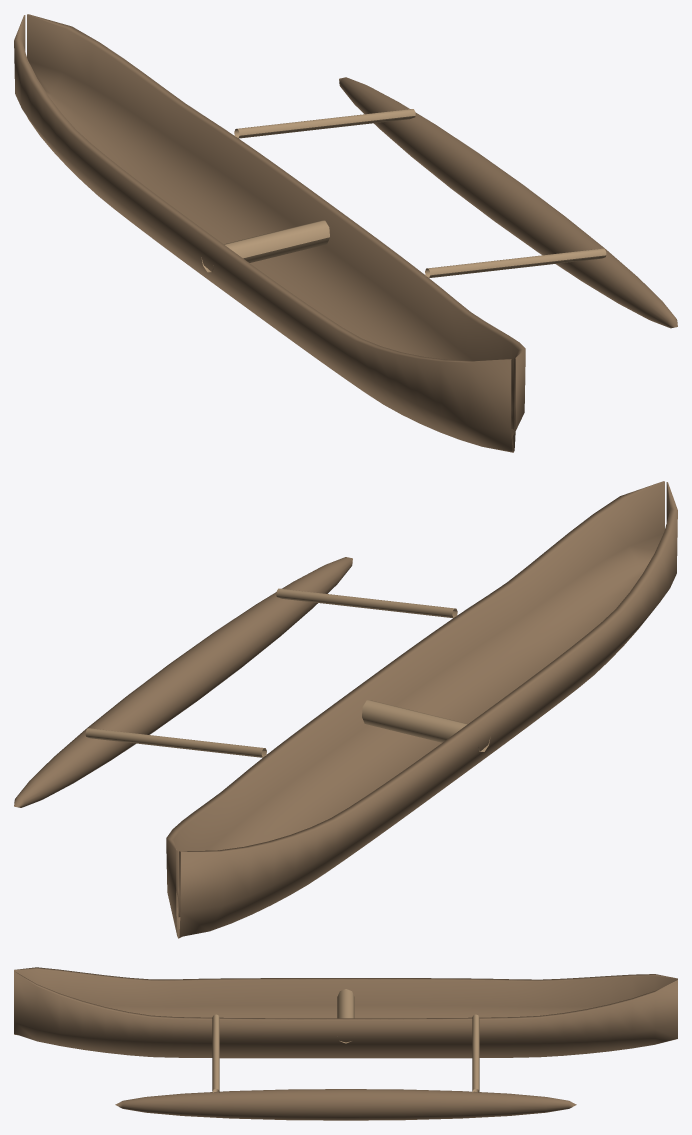
File: Canoe.glb
The picture shows the model from 3 angles, top to bottom: view 1: azimuth 30°, elevation 25°; view 2: azimuth 150°, elevation 25°; view 3: azimuth 270°, elevation 25°; orthographic projection. The views are drawn at different scales.
Visible parts, largest first — view 1: Canoe_hull, Canoe_float, Canoe_booms, Canoe_seat; view 2: Canoe_hull, Canoe_float, Canoe_booms, Canoe_seat; view 3: Canoe_hull, Canoe_float, Canoe_booms, Canoe_seat.
Boxes of the visible parts, x1,y1,x2,y2 form: Canoe_hull: [14, 14, 525, 452]; Canoe_float: [339, 77, 677, 328]; Canoe_booms: [234, 109, 606, 277]; Canoe_seat: [201, 220, 329, 272]; Canoe_hull: [166, 481, 677, 938]; Canoe_float: [14, 557, 352, 807]; Canoe_booms: [85, 588, 457, 757]; Canoe_seat: [362, 700, 490, 751]; Canoe_hull: [14, 967, 677, 1058]; Canoe_float: [115, 1089, 576, 1120]; Canoe_booms: [212, 1014, 479, 1092]; Canoe_seat: [337, 989, 354, 1043].
Size of the model in its own units: 1.76 by 0.6 by 4.6.
